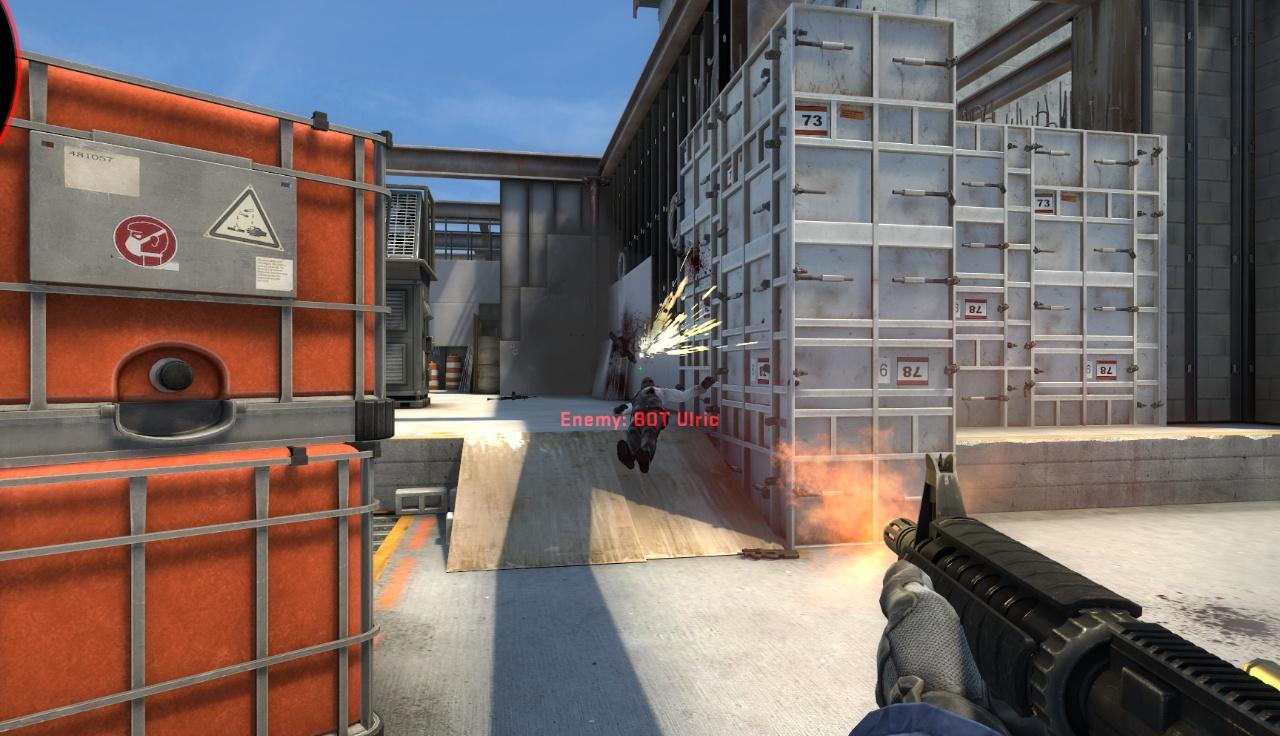rifle: (862, 453, 1280, 727)
